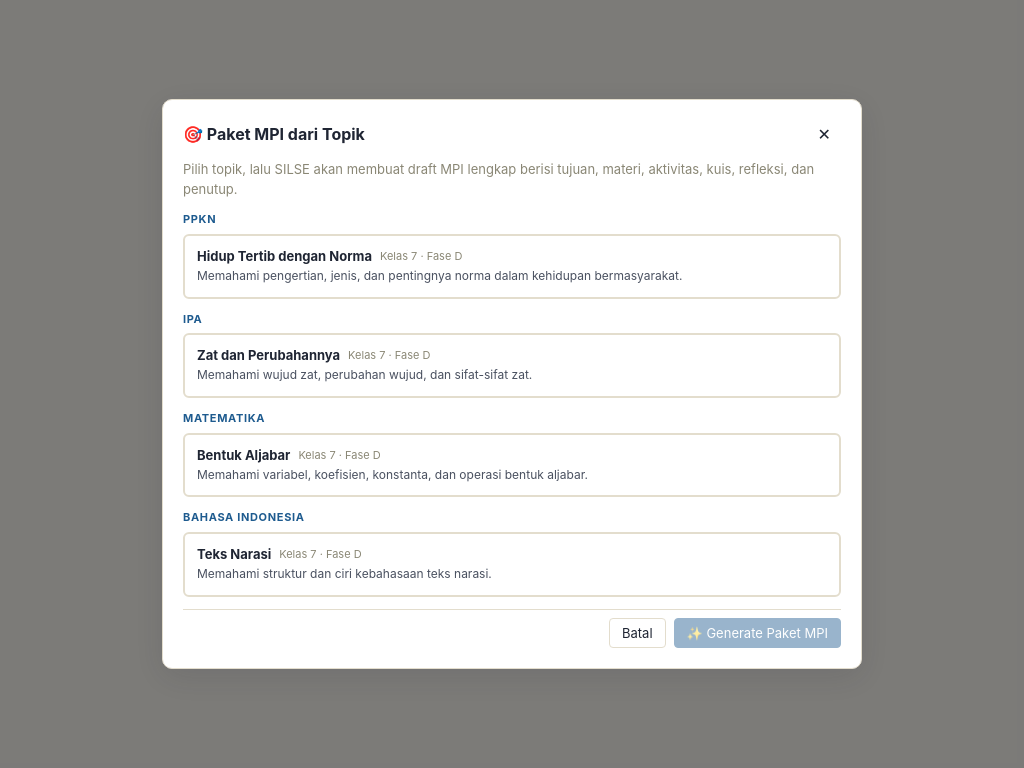
TEACHER-MAIN-FLOW-POLISH-01 — flow › 6. Selecting topic enables generate button
Click the button with test id "guided-flow-topic-ppkn-7-norma".
click(512, 266)  # box x1=183 y1=234 x2=841 y2=299
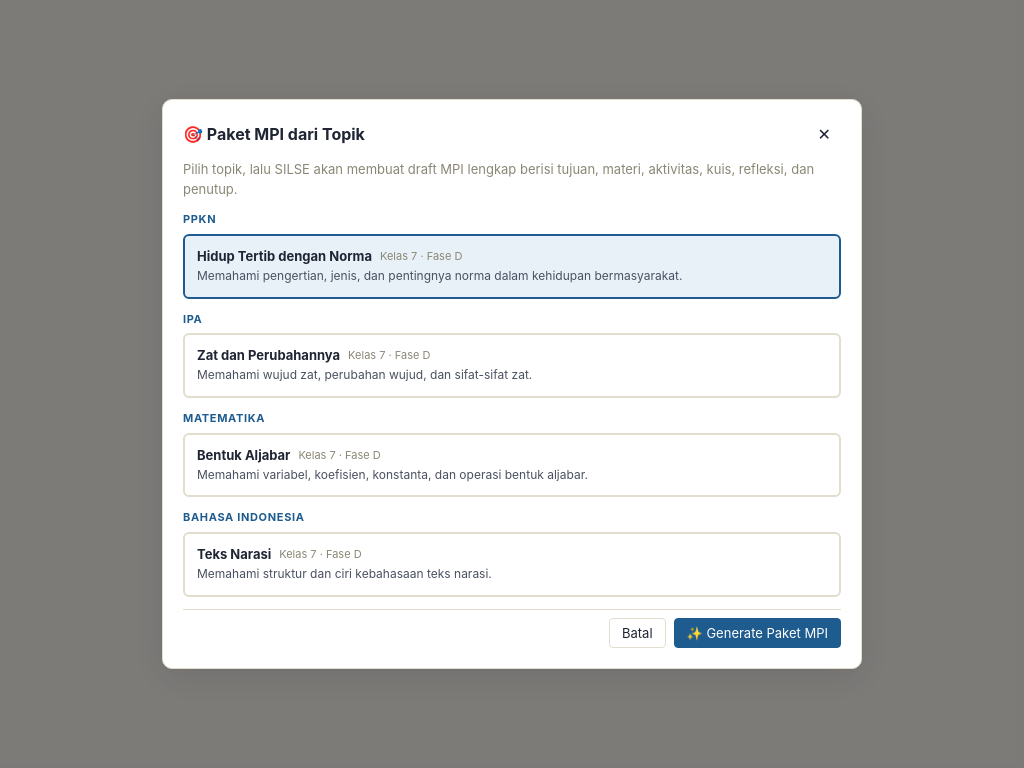
Check: the button with test id "guided-flow-generate" is enabled, box x1=674 y1=618 x2=841 y2=648
